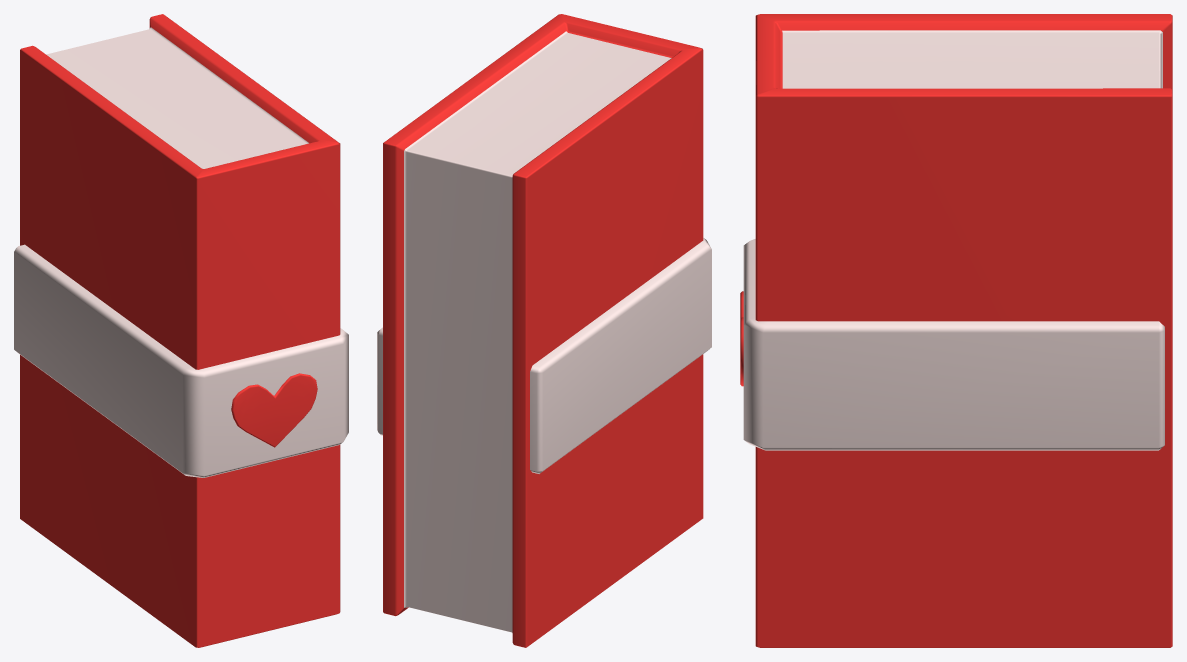
The model's file is Public_2_Book_5.glb.
The picture shows the model from 3 angles, left to right: view 1: azimuth 30°, elevation 25°; view 2: azimuth 150°, elevation 25°; view 3: azimuth 270°, elevation 25°; orthographic projection. The views are drawn at different scales.
Parts seen in each view (by area): view 1: Public_2_Book_5; view 2: Public_2_Book_5; view 3: Public_2_Book_5.
Boxes of the visible parts, x1,y1,x2,y2 form: Public_2_Book_5: (14,14,348,647); Public_2_Book_5: (377,14,711,647); Public_2_Book_5: (740,14,1172,647).
Bounding box in the file's own units: 0.4815 × 1.3 × 0.9242.
1 material, 1 textured.
